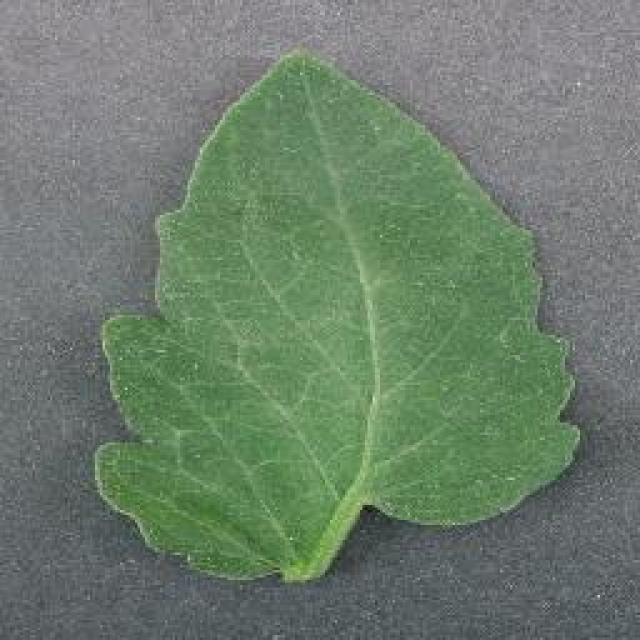Tomato healthy leaf: (87, 49, 585, 589)
